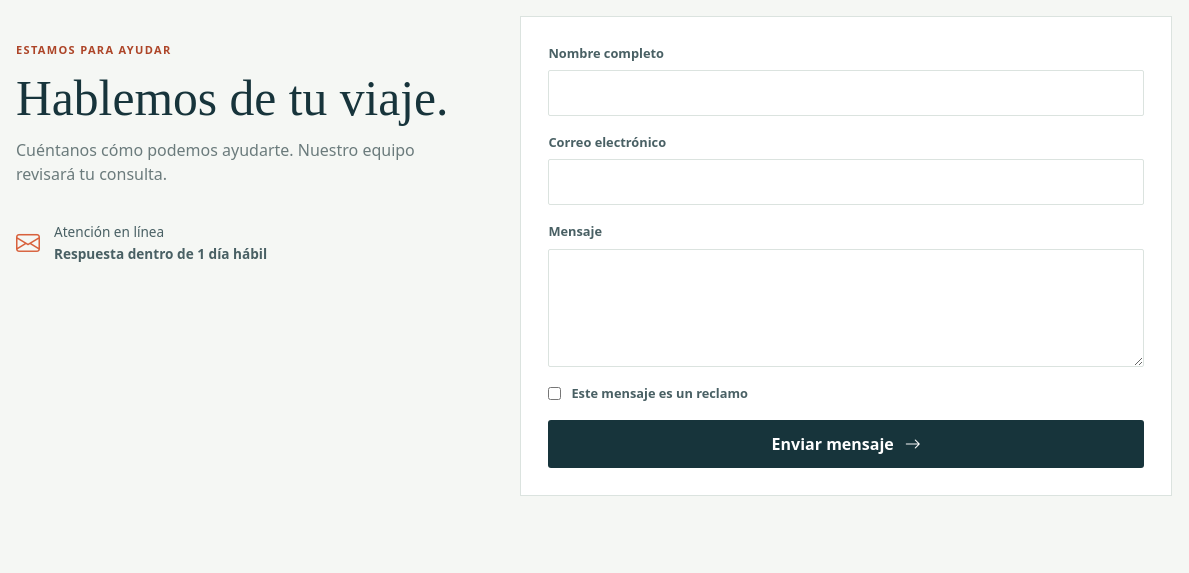
Test: ServicePage › envía el formulario de contacto y muestra la confirmación
In the field labelled "Nombre completo": {"x": 846, "y": 93} [548, 70, 1144, 116], type "Ana Pérez"
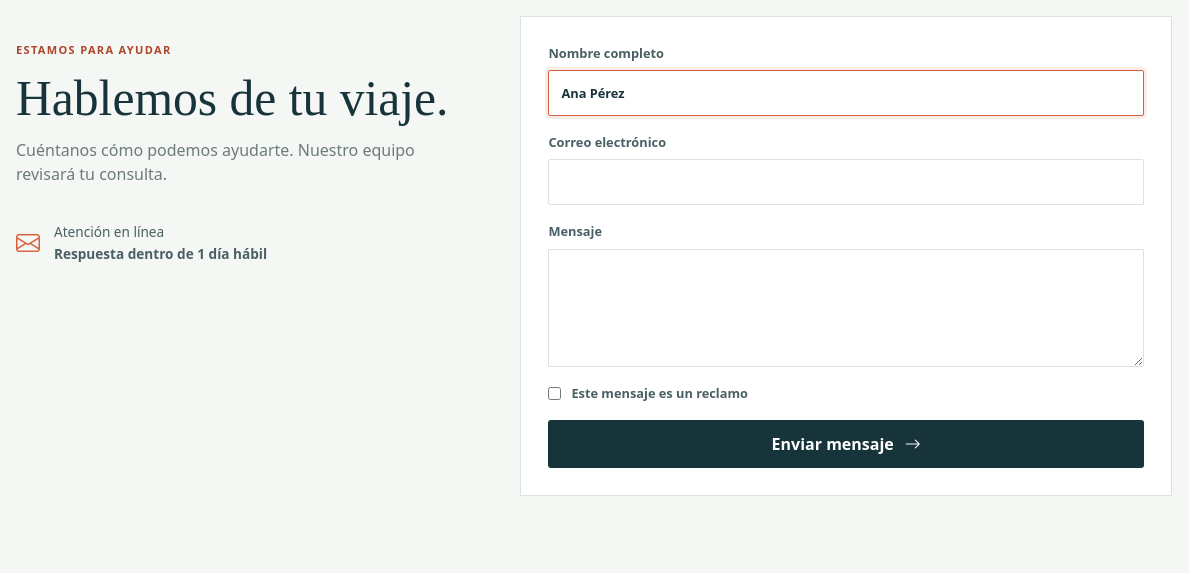
In the field labelled "Correo electrónico": {"x": 846, "y": 182} [548, 159, 1144, 205], type "ana@example.com"
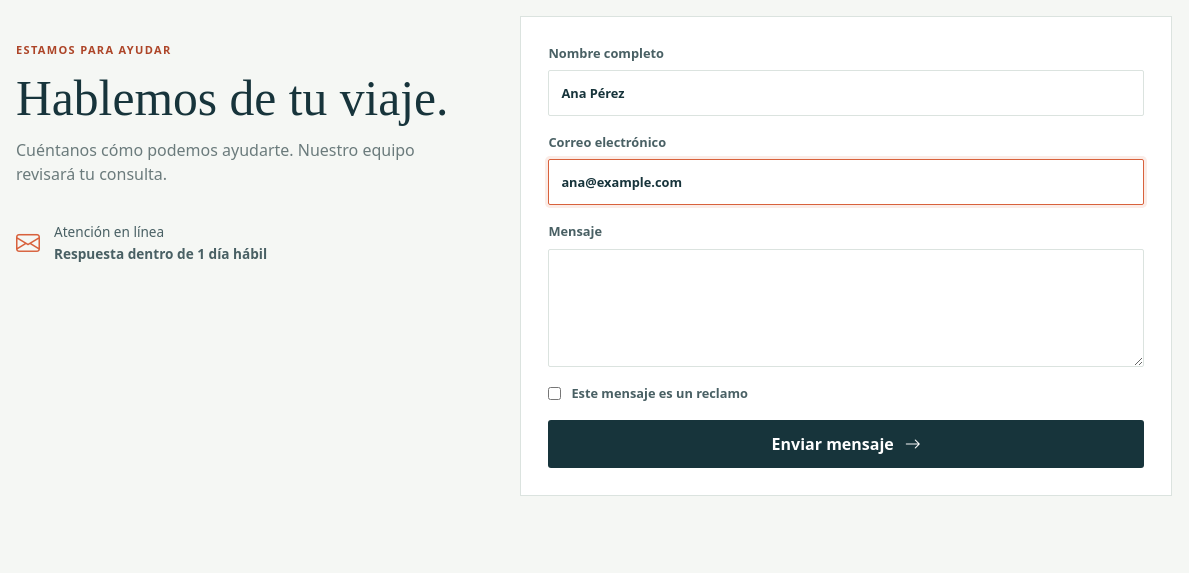
In the text box labelled "Mensaje": {"x": 846, "y": 308} [548, 249, 1144, 366], type "Necesito información de una ruta."
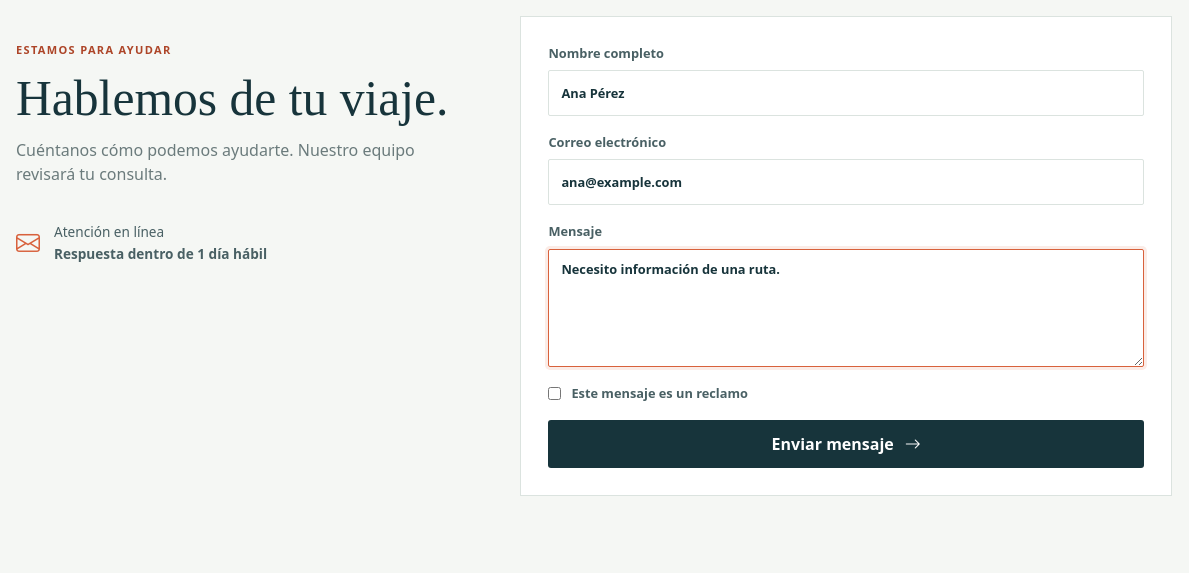
Click the button "Enviar mensaje": {"x": 846, "y": 444} [548, 420, 1144, 468]
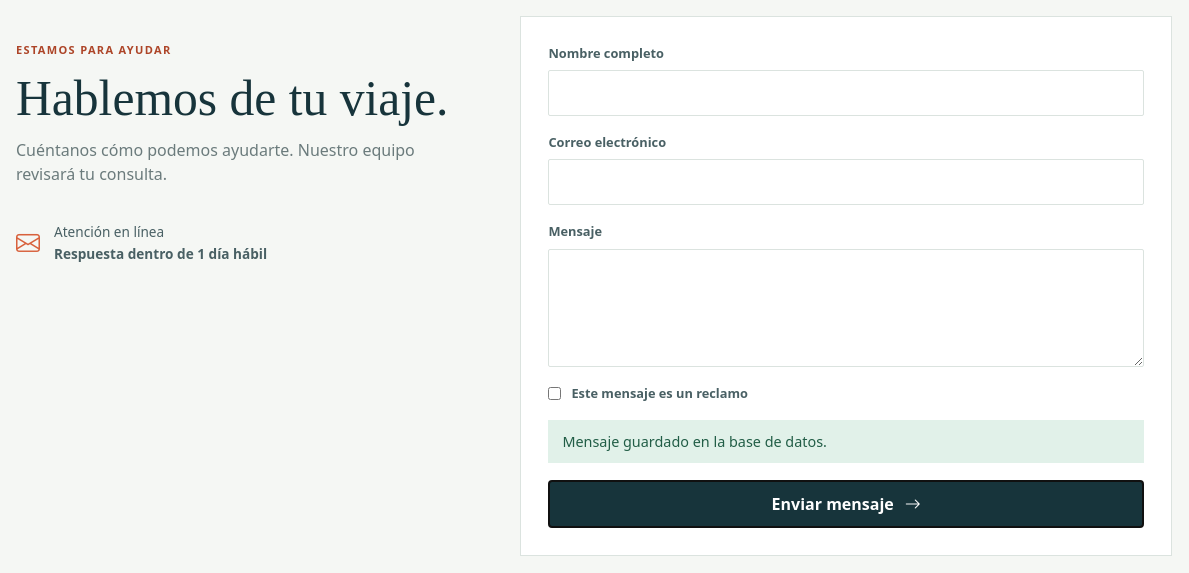
Expected: the message shows "Mensaje guardado", [562, 432, 827, 451]
